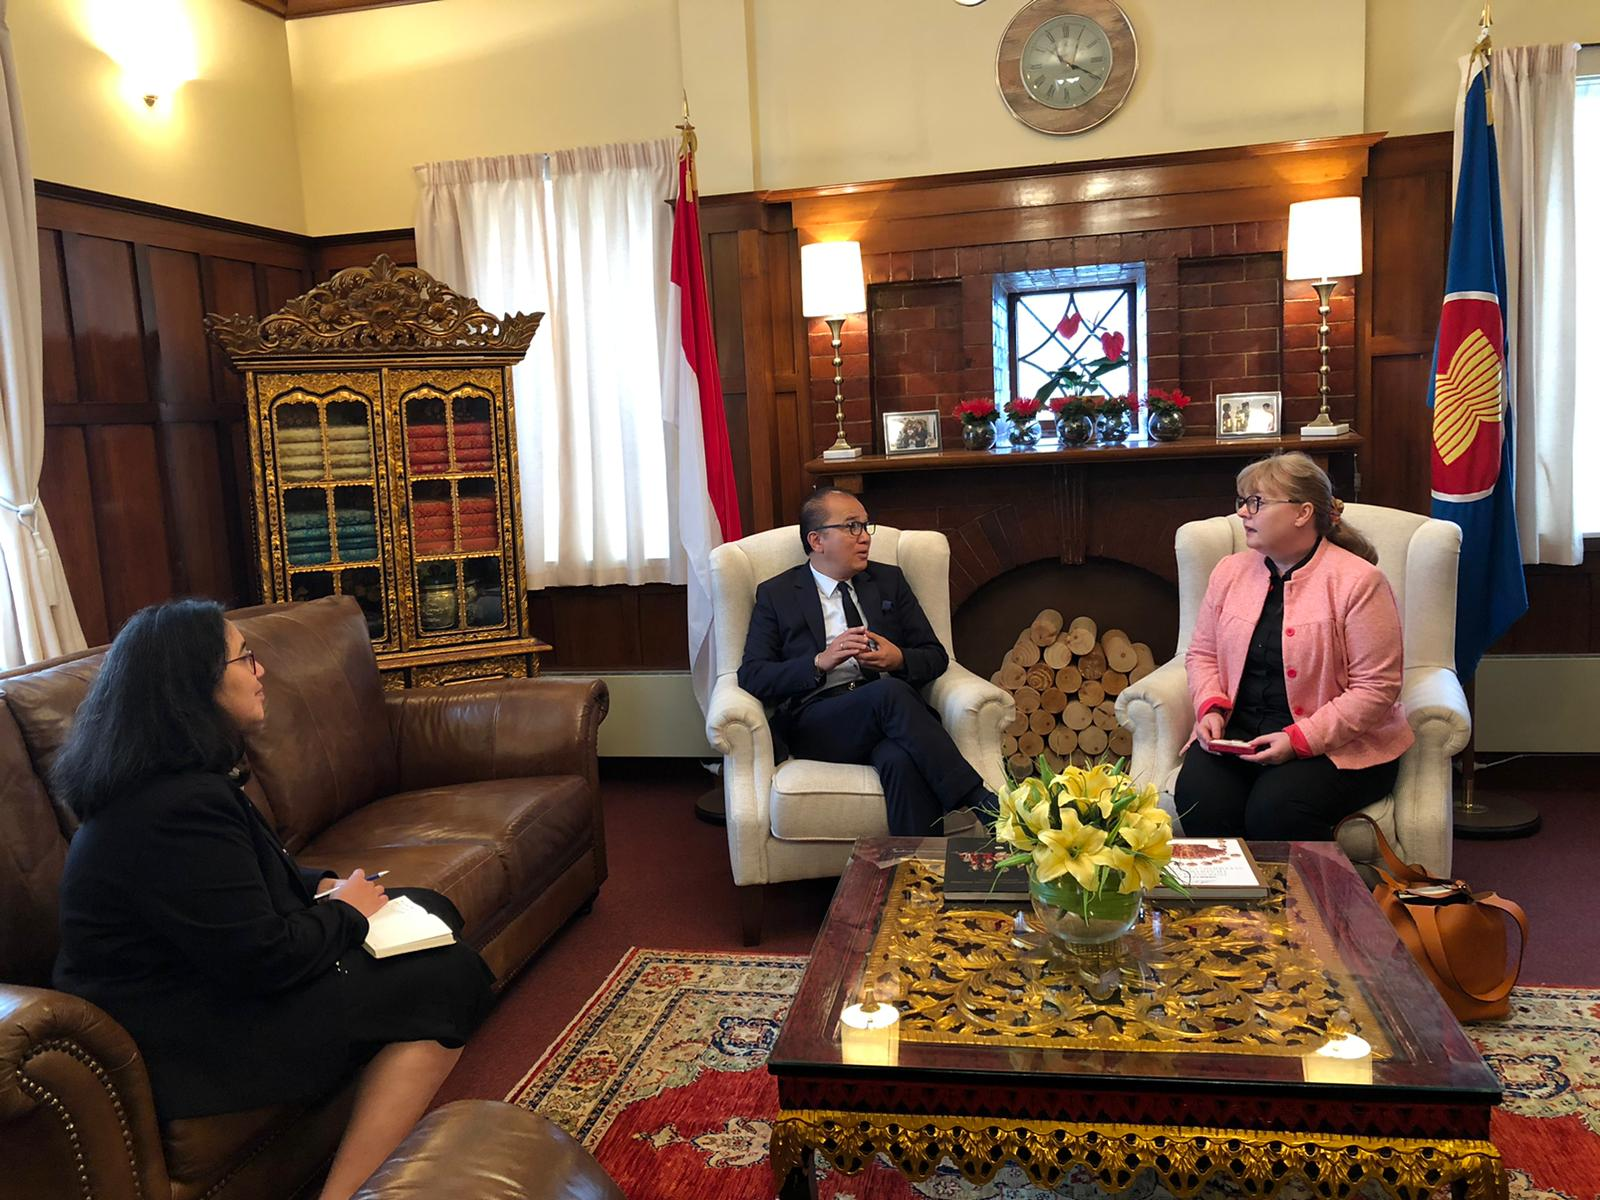Foto: (1211, 387, 1288, 441), (877, 408, 944, 458)
Jam Dinding: (994, 1, 1143, 141)
Meja: (763, 832, 1504, 1200)
Sova: (4, 587, 611, 1197), (1115, 499, 1471, 836), (699, 524, 1018, 834)
Tanaman: (994, 753, 1180, 967)
lampu: (1283, 192, 1364, 441), (791, 238, 876, 459)
tanaman: (1049, 308, 1124, 445)
